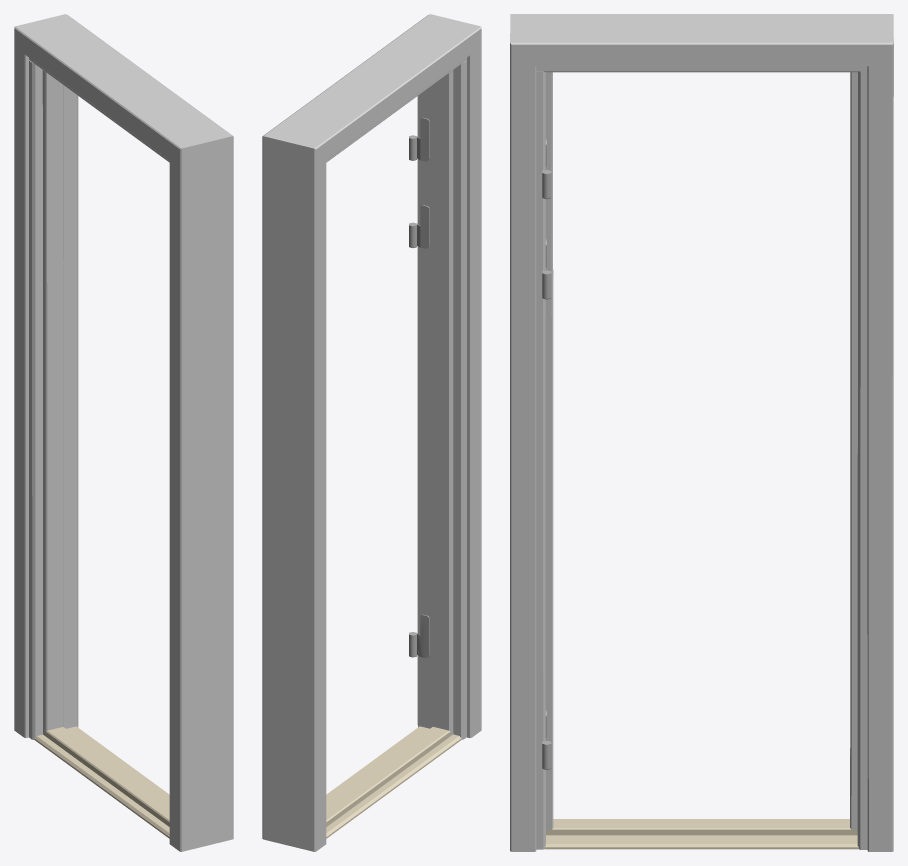
The model's file is ww_door_type_a_frame.fbx.
3 views of the same model, side by side, from view 1: azimuth 30°, elevation 25°; view 2: azimuth 150°, elevation 25°; view 3: azimuth 270°, elevation 25° (orthographic). The views are drawn at different scales.
Parts seen in each view (by area): view 1: generisk_dør_type_a_blad; view 2: generisk_dør_type_a_blad; view 3: generisk_dør_type_a_blad.
Part boxes in pixels (x1,y1,x2,y2): generisk_dør_type_a_blad: [14, 14, 233, 851]; generisk_dør_type_a_blad: [262, 14, 481, 851]; generisk_dør_type_a_blad: [510, 14, 893, 851].
Bounding box in the file's own units: 21.1 × 247 × 106.
